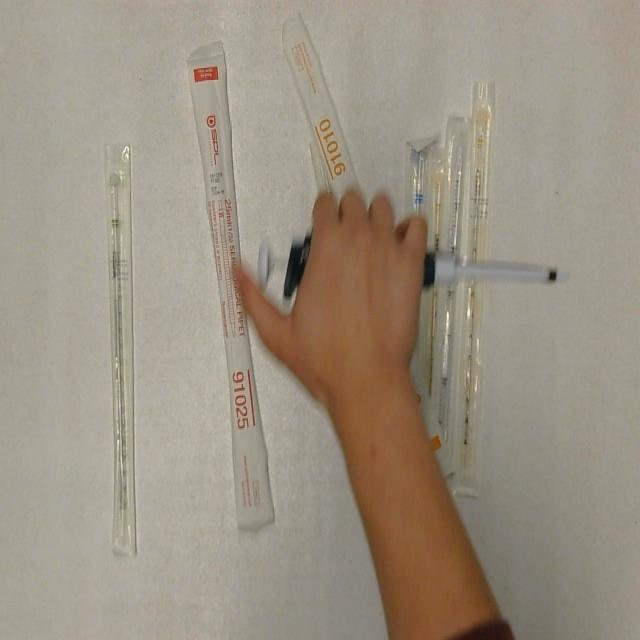Serelogical Pipet 1 mL - Sealed: (454, 78, 499, 503), (428, 144, 452, 248)
Serelogical Pipet 10 mL - Sealed: (279, 10, 458, 485)
Serelogical Pipet 2 mL - Sealed: (102, 138, 140, 559)
Serelogical Pipet 25 mL - Sealed: (186, 39, 282, 536)
Serelogical Pipet 5 mL - Sealed: (443, 114, 477, 258), (402, 128, 442, 222)
Single Channel Pipettor: (254, 212, 572, 314)
